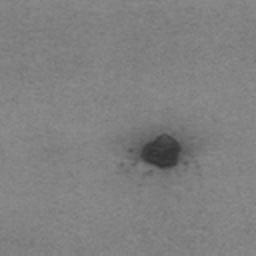Iron sheet ash: (140, 133, 182, 170)
